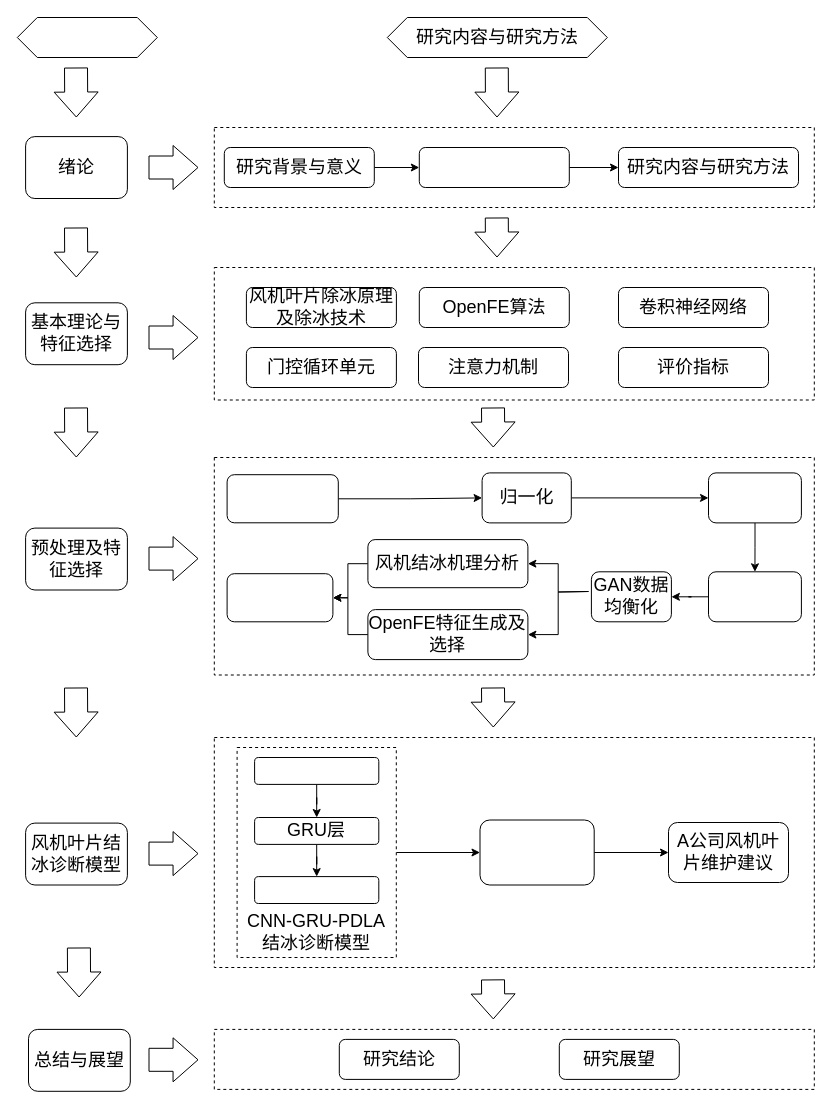
Image size: 832x1109. Some labels were removed from this diagram. The shapes that lost their labels are listed below. From the top down, each one's box as (x1, y1, x2, y2) in pixels, then its label:
(16, 16, 157, 58): 研究目标
(418, 146, 569, 188): 国内外研究现状
(226, 474, 338, 523): 风机叶片结冰样本选取
(708, 472, 801, 523): 结冰特征相关性分析
(226, 573, 333, 622): 融合的特征
(708, 571, 801, 622): 结冰特征重要性分析
(254, 756, 379, 784): CNN层
(479, 819, 594, 885): 实验结果分析
(254, 876, 379, 904): PDLA层
